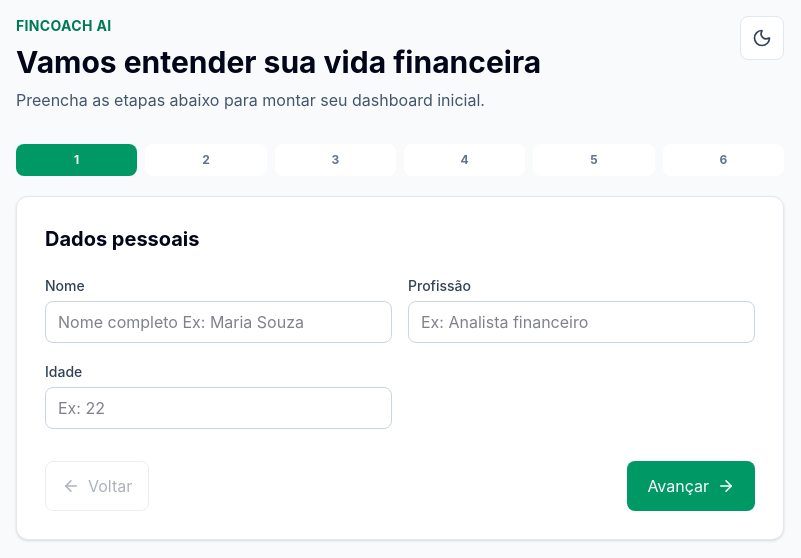
Test: Onboarding › volta para step anterior ao clicar em Voltar
This screenshot has width=801, height=558.
Type "Ana Silva" into the field labelled "Nome" at [218, 322], box [45,301,392,343]
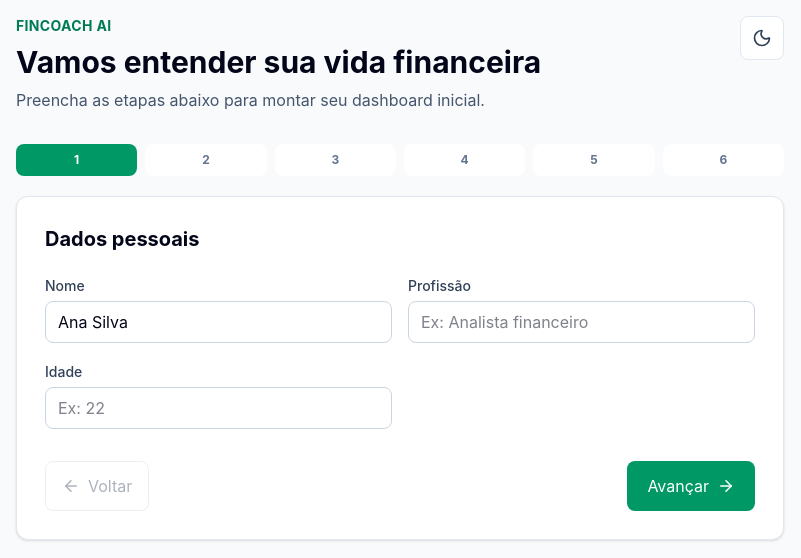
Type "Engenheira" into the field labelled "Profissão" at [582, 322], box [408,301,755,343]
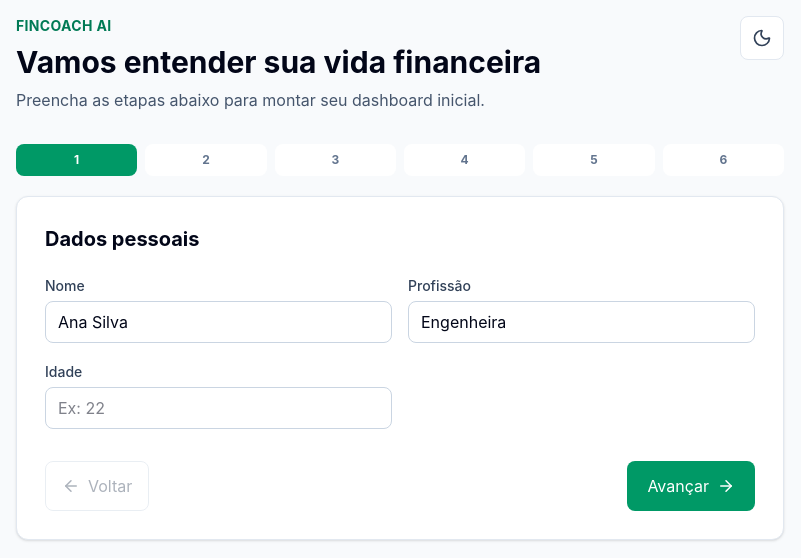
Type "28" into the number field labelled "Idade" at [218, 408], box [45,387,392,429]
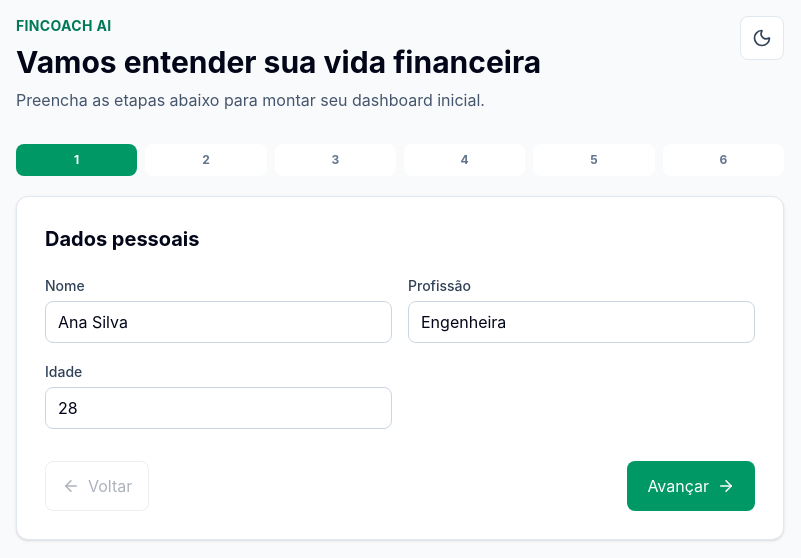
Click the button "Avançar" at [691, 486], box [627,461,755,511]
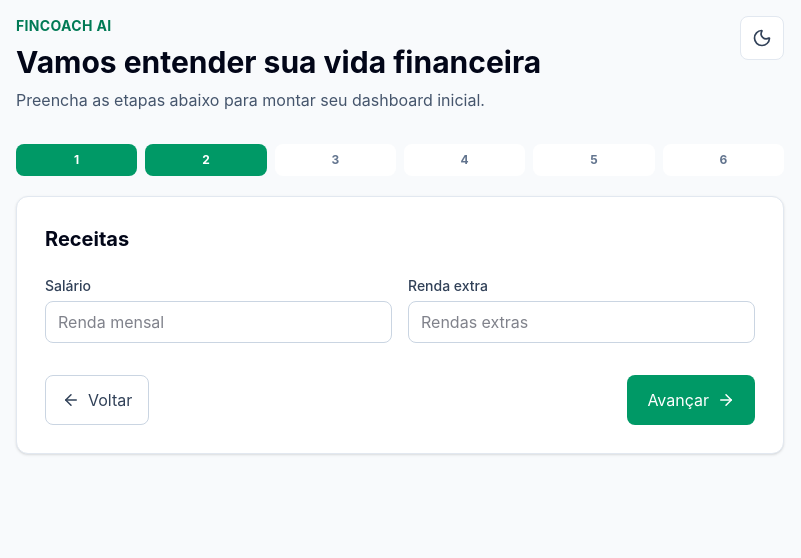
Now the heading "Receitas" is shown, box [45,227,129,251]
Click the button "Voltar" at [97, 400], box [45,375,149,425]
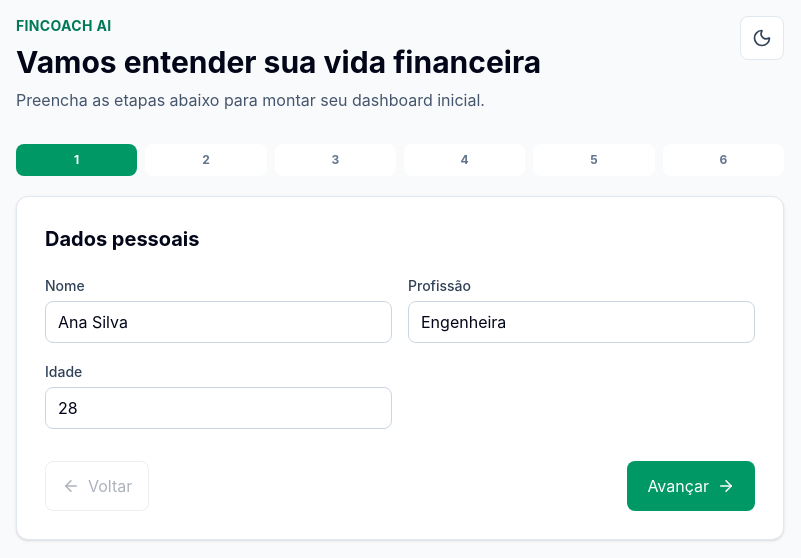
Now the heading "Dados pessoais" is shown, box [45,227,200,251]
